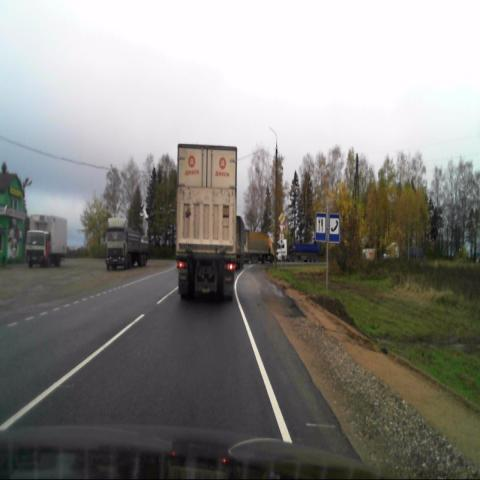7_6: (329, 214, 340, 243)
7_7: (316, 213, 326, 241)
